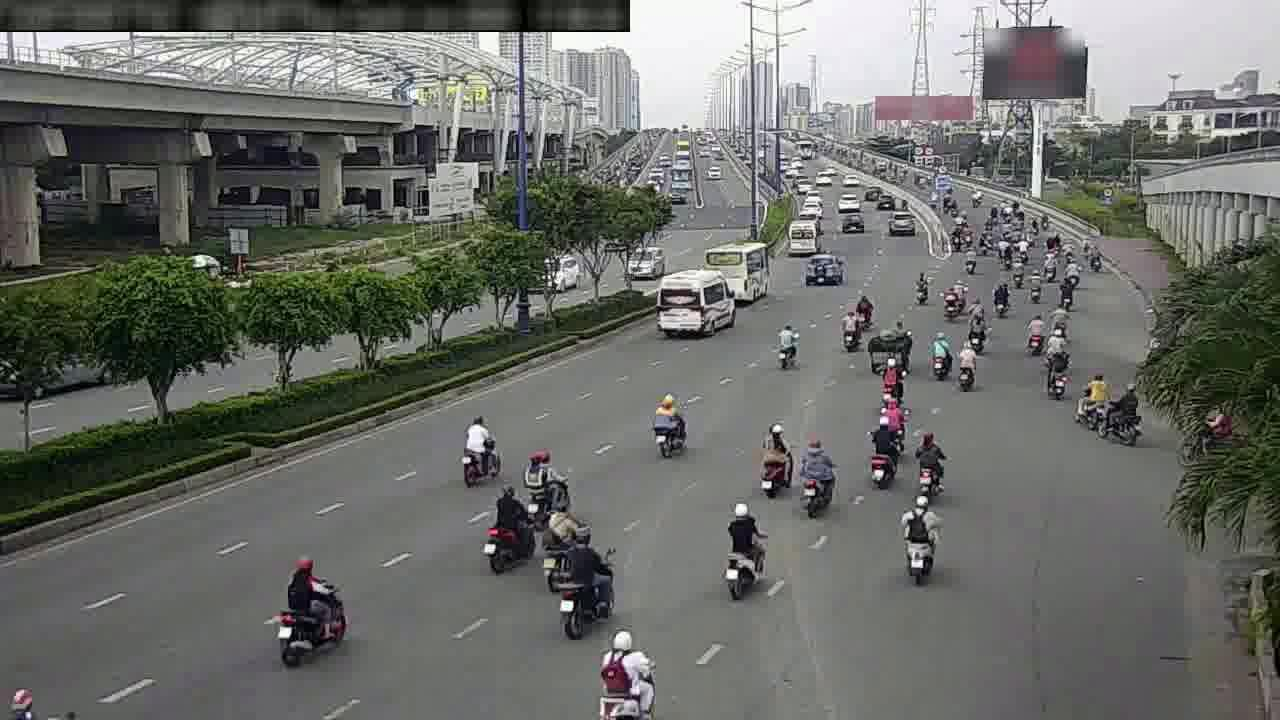14: (653, 272, 738, 335), (711, 237, 767, 296)
container: (801, 253, 848, 287)
motorbike: (275, 553, 350, 660), (556, 529, 615, 636), (595, 630, 657, 715), (481, 478, 532, 571), (720, 502, 767, 601), (896, 499, 946, 585), (793, 432, 837, 516), (1075, 373, 1133, 435), (452, 415, 500, 489), (754, 421, 796, 501), (539, 504, 576, 587), (650, 388, 691, 462), (524, 450, 563, 521), (862, 419, 901, 488), (911, 432, 951, 498), (1038, 350, 1071, 400), (876, 351, 907, 398), (770, 322, 800, 370), (926, 331, 956, 379), (950, 343, 979, 389), (1019, 314, 1047, 355), (962, 312, 988, 353), (909, 267, 933, 305), (940, 282, 964, 320), (878, 397, 902, 435), (991, 282, 1014, 320), (1050, 335, 1074, 371), (1049, 305, 1073, 340), (1053, 276, 1076, 311), (1022, 275, 1045, 310), (837, 309, 857, 349), (853, 291, 873, 331), (960, 247, 981, 279)
